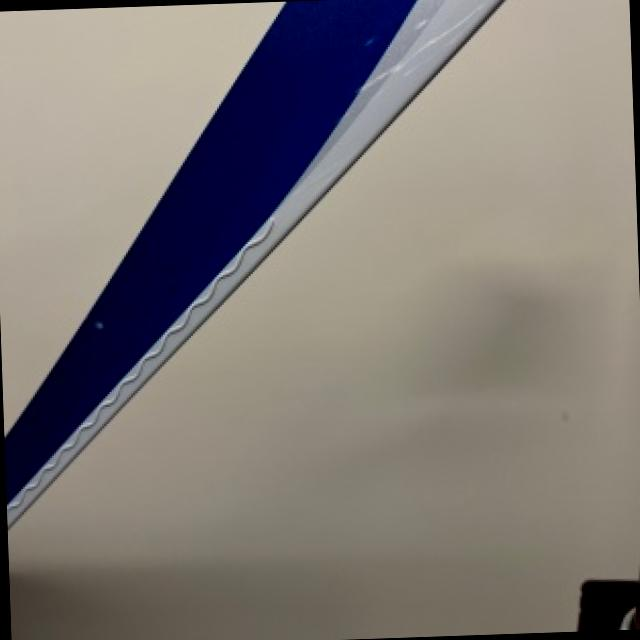healthy: (6, 0, 503, 523), (0, 1, 283, 425)
